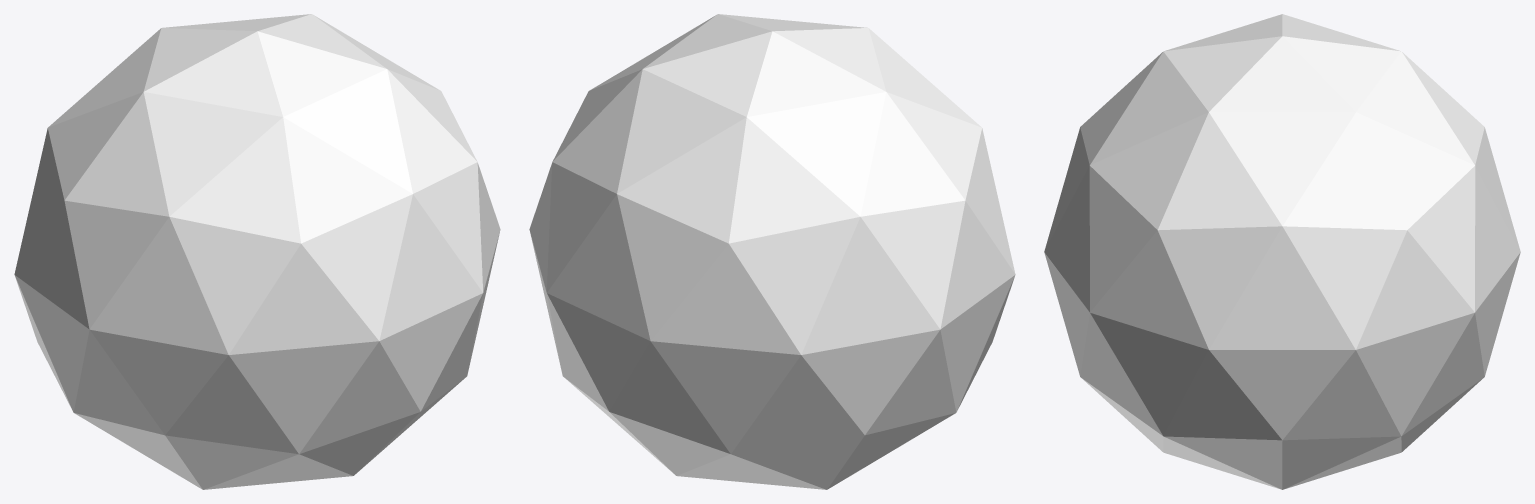
File: hat-ball.glb
3 views of the same model, side by side, from view 1: azimuth 30°, elevation 25°; view 2: azimuth 150°, elevation 25°; view 3: azimuth 270°, elevation 25° (orthographic). The views are drawn at different scales.
Parts seen in each view (by area): view 1: obj2; view 2: obj2; view 3: obj2.
Part boxes in pixels (left/top/right/bottom): obj2: left=14, top=14, right=500, bottom=489; obj2: left=529, top=14, right=1015, bottom=489; obj2: left=1044, top=14, right=1520, bottom=489.
Size of the model in its own units: 0.989 by 1.02 by 1.02.
Materials: 1 (1 with a texture image).
